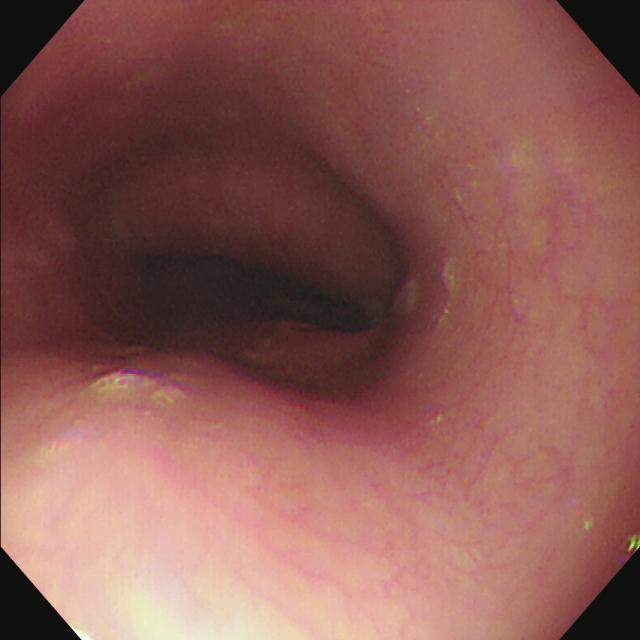E: (163, 247, 356, 338)
U: (614, 525, 640, 558)
